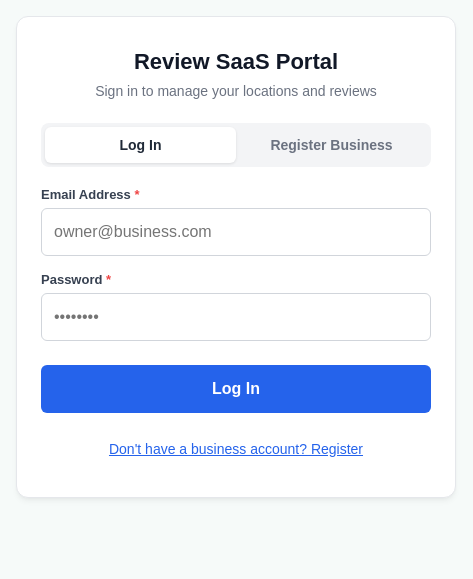
Test case: OwnerAuth Component Tests › 6. should display friendly error alert on 401 INVALID_CREDENTIALS
Type "wrong@example.com" into the field with test id "login-email-input" at (236, 232), box [41, 208, 431, 256]
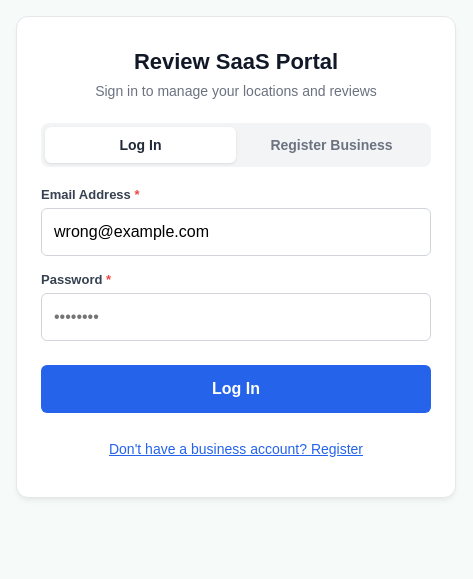
Type "WrongPassword123!" into the password field with test id "login-password-input" at (236, 317), box [41, 293, 431, 341]
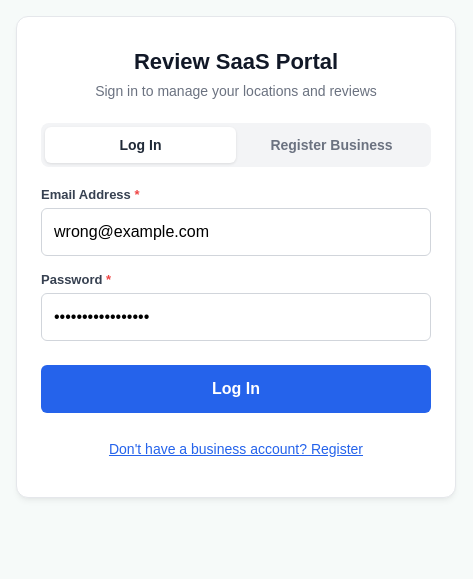
Click the button with test id "auth-submit-button" at (236, 389), box [41, 365, 431, 413]
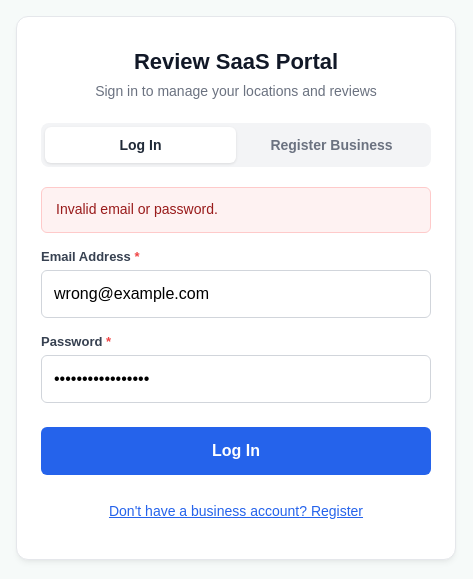
Check: the message "Invalid email or password." is shown, box [41, 187, 431, 233]
Check: the message with test id "auth-error-banner" shows "Invalid email or password", box [56, 201, 218, 217]
